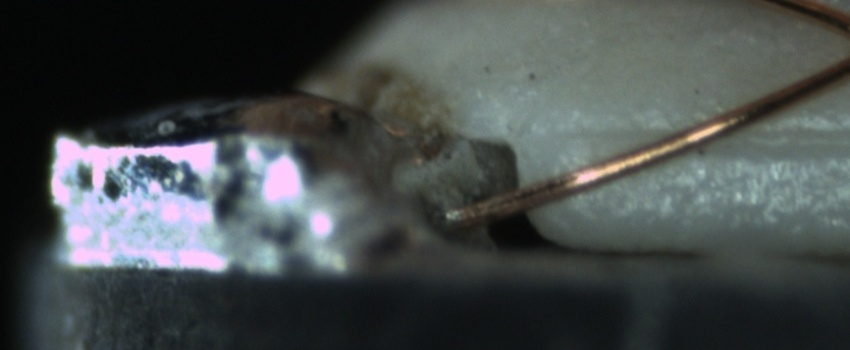DL: (553, 103, 848, 171)
